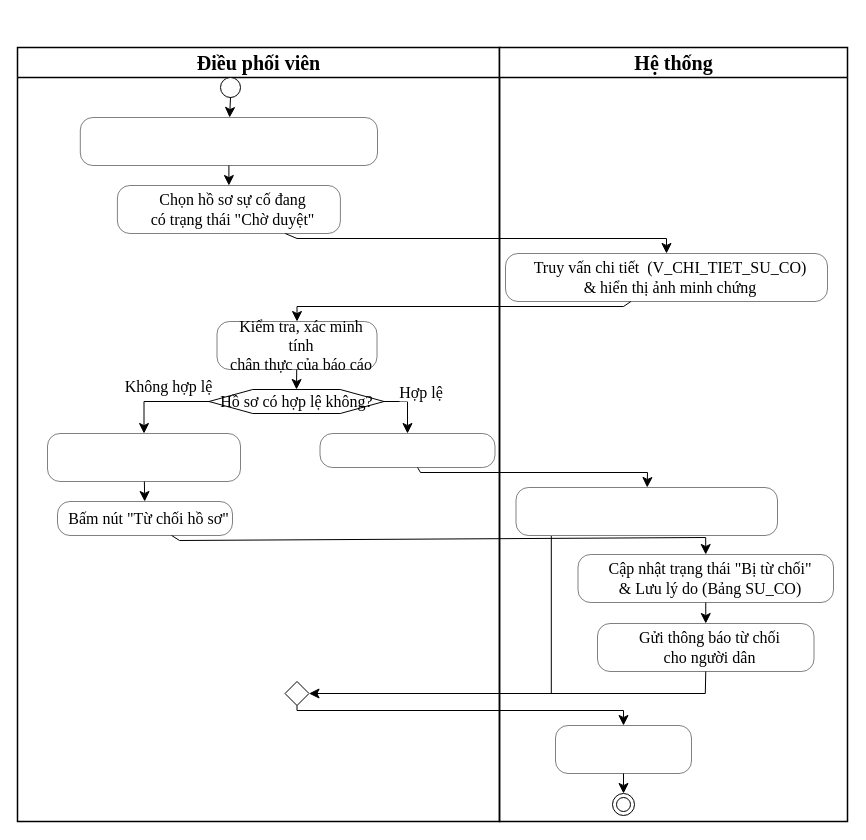
Some shapes in this 866 by 840 pixel diagram are drawn without their labels. The centre of each missing label's shape, as x and y in pixels:
Bấm nút "Duyệt hồ sơ": point 407,450
Cập nhật trạng thái sự cố thành "Đã duyệt" (Chờ phân công): point 646,511
Hiển thị thông báo thao tác thành công: point 623,749
Nhập lý do từ chối (Báo cáo giả, sai sự thật...): point 143,457
Đăng nhập & truy cập Dashboard Tiếp nhận & Phân công: point 228,141
